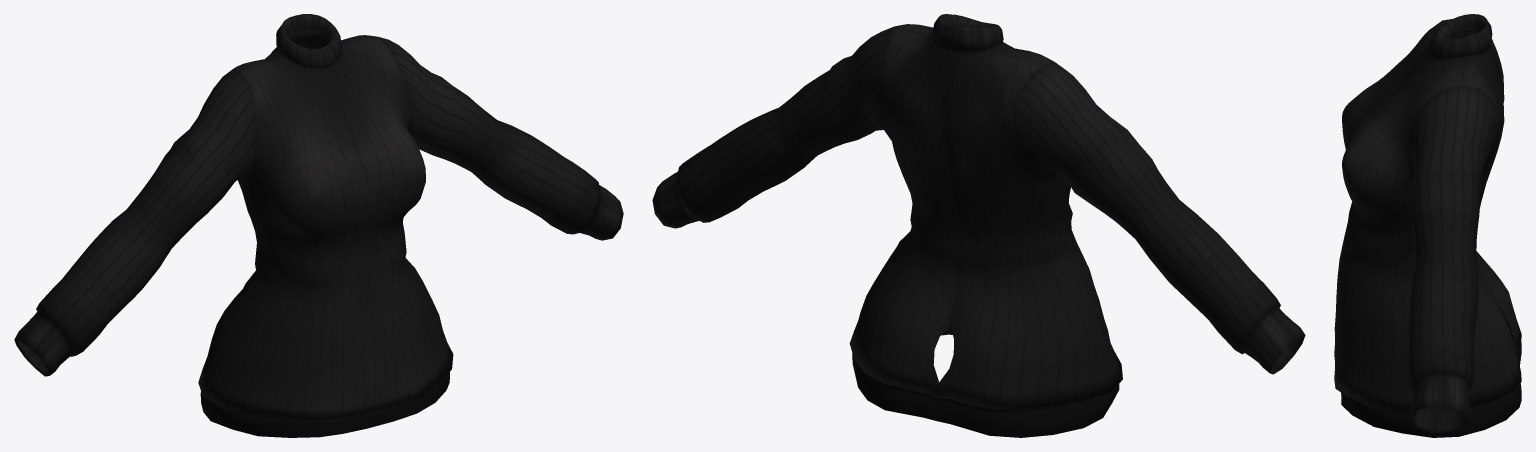
File: mire_clothing.glb
3 views of the same model, side by side, from view 1: azimuth 30°, elevation 25°; view 2: azimuth 150°, elevation 25°; view 3: azimuth 270°, elevation 25° (orthographic). The views are drawn at different scales.
Visible parts, largest first — view 1: Mire.Ms.Sweater; view 2: Mire.Ms.Sweater; view 3: Mire.Ms.Sweater.
Boxes of the visible parts, left/top/right/bottom form: Mire.Ms.Sweater: left=14, top=14, right=623, bottom=437; Mire.Ms.Sweater: left=652, top=14, right=1305, bottom=437; Mire.Ms.Sweater: left=1334, top=14, right=1521, bottom=437.
Size of the model in its own units: 1.06 by 0.6189 by 0.289.
1 material, 1 textured.
